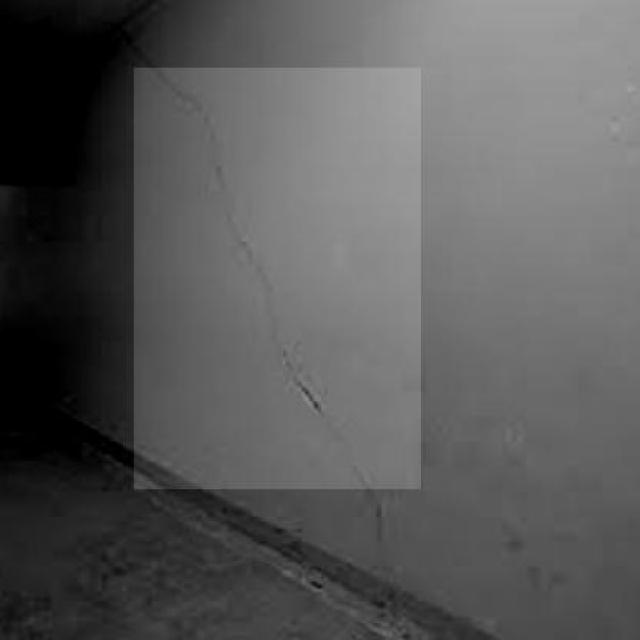Crack: (108, 0, 408, 550)
